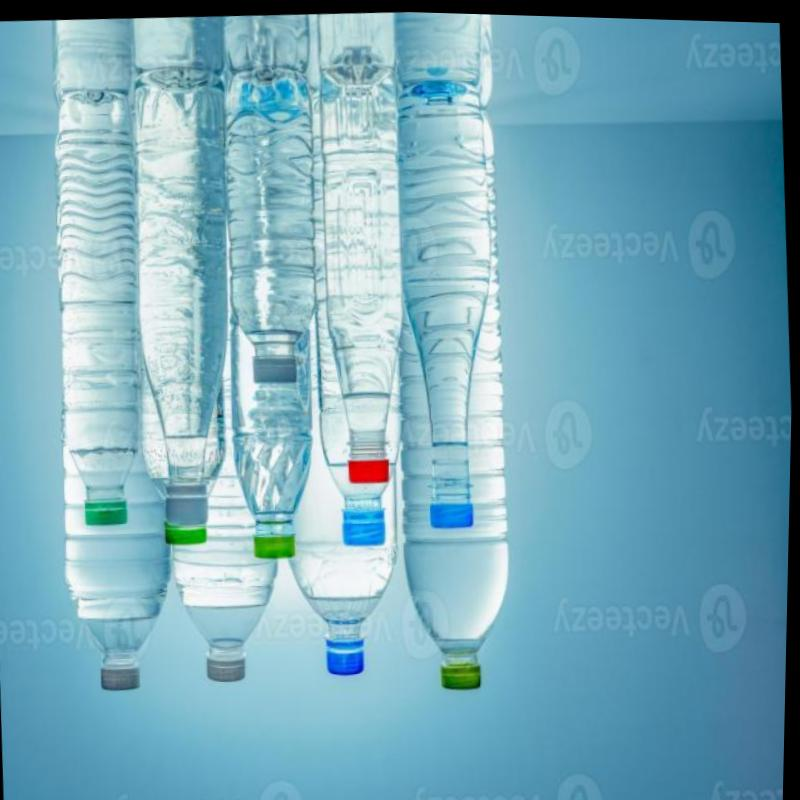botella: (378, 104, 526, 691), (153, 205, 290, 684), (123, 64, 244, 526), (301, 83, 417, 546), (388, 79, 507, 527), (274, 309, 410, 677), (45, 89, 153, 526), (309, 54, 418, 482), (58, 409, 183, 692), (218, 59, 325, 383), (223, 308, 322, 559)
